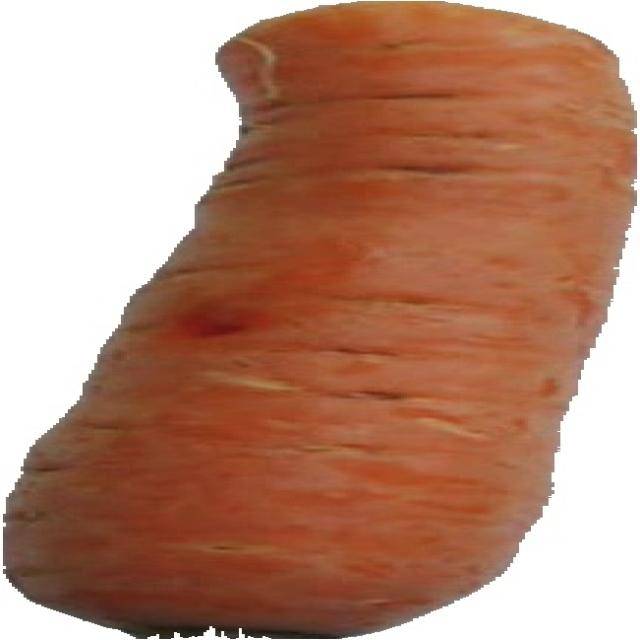carrot: (8, 2, 635, 637)
